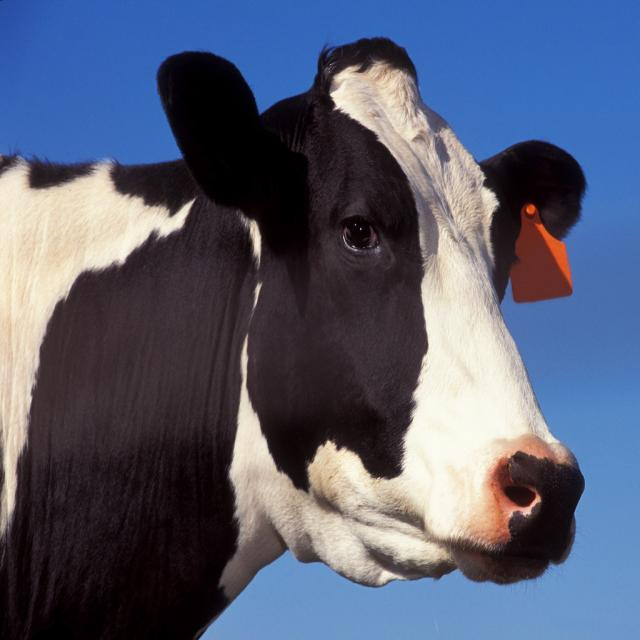Cattle: (0, 35, 588, 639)
